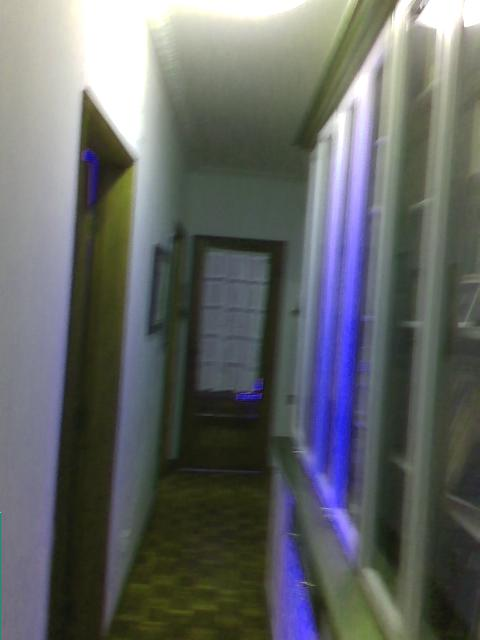closed_door: (178, 234, 286, 467)
